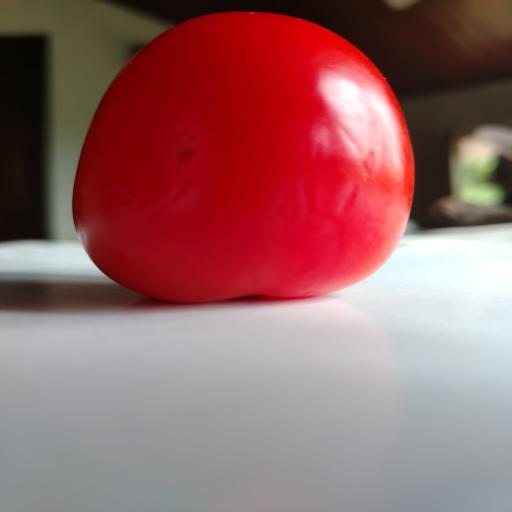ripe: (73, 13, 414, 302)
